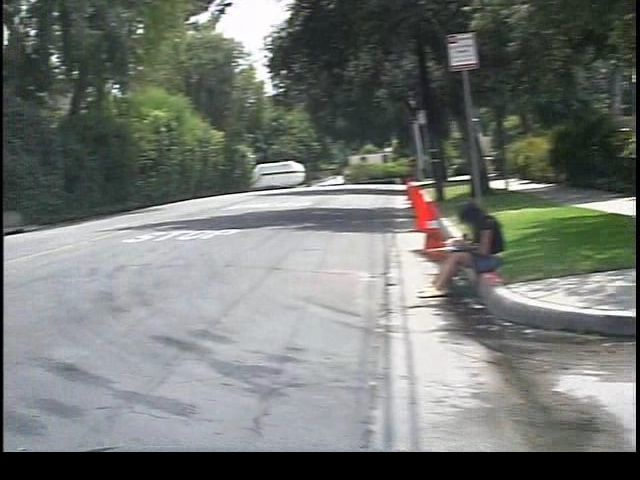person: (400, 196, 496, 299)
